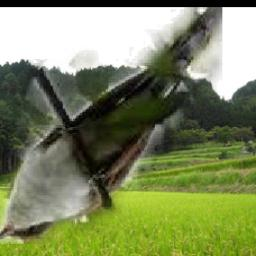Cuckoo: (0, 8, 222, 245)
